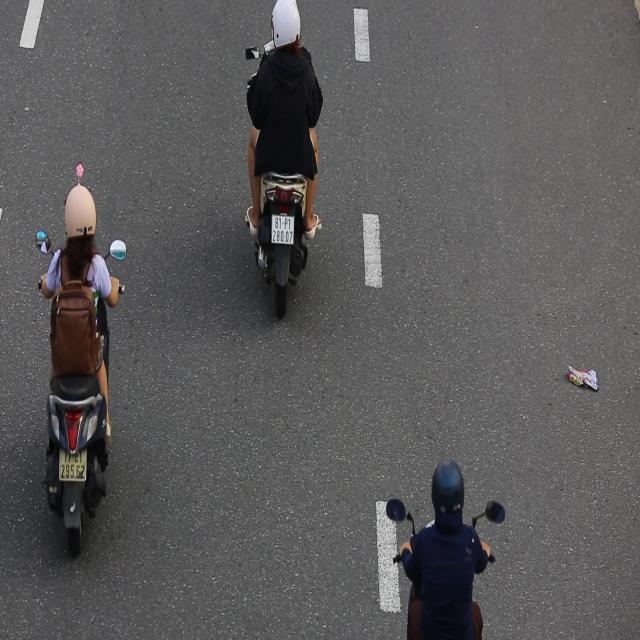motorbike: (36, 178, 128, 558), (242, 5, 328, 328)
